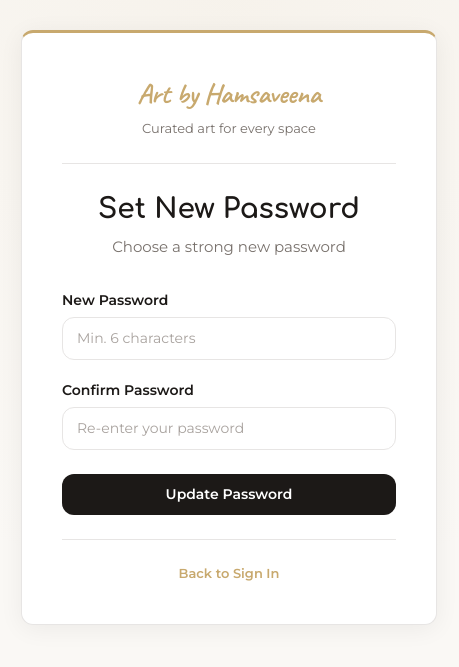
it: ResetPasswordForm › shows error when passwords do not match
Type "password123" into the password field labelled "New Password" at (229, 338), box [62, 317, 396, 360]
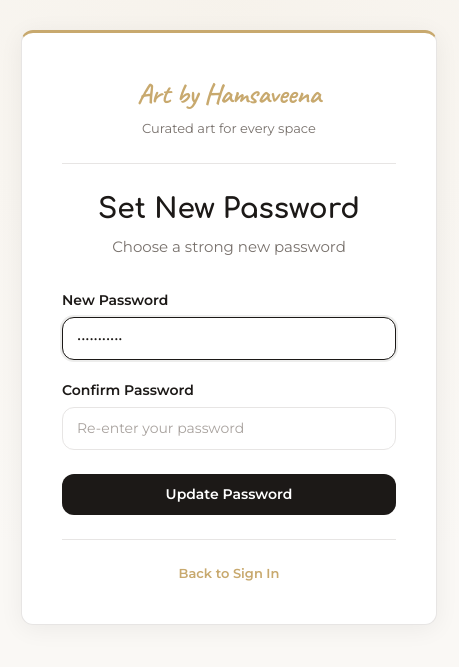
Type "different456" into the password field labelled "Confirm Password" at (229, 428), box [62, 407, 396, 450]
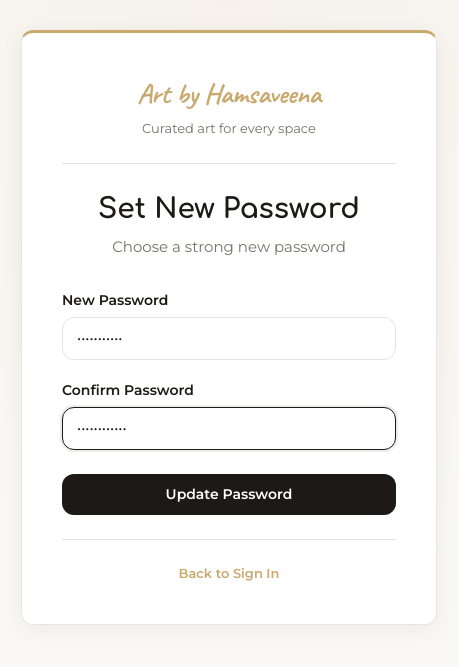
Click the button "Update Password" at (229, 494), box [62, 474, 396, 515]
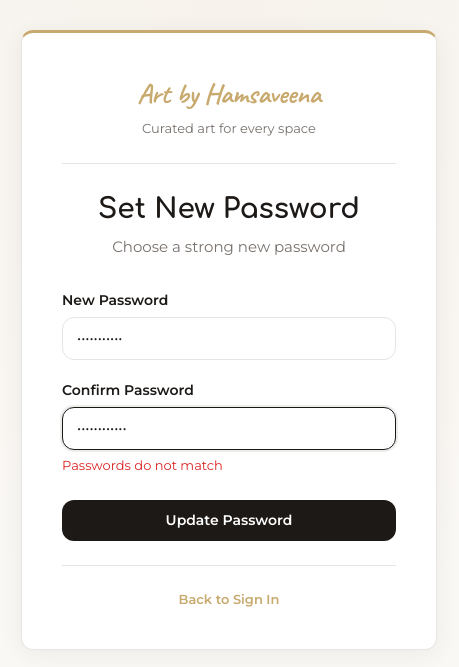
Expected: the text "Passwords do not match" is shown, [62, 457, 223, 473]
